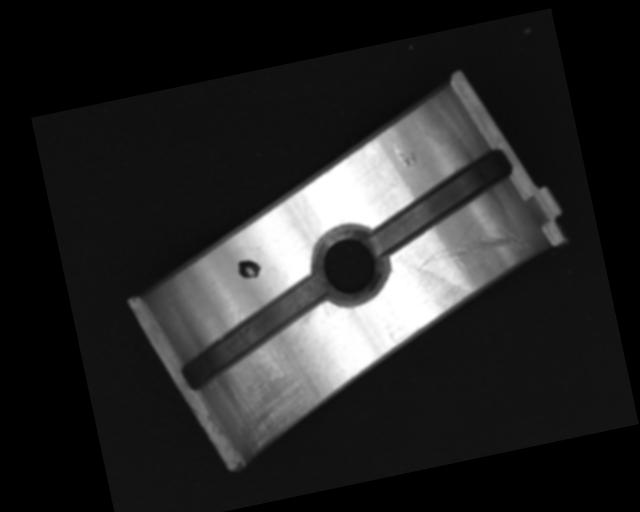blot: (235, 257, 264, 282)
bruise: (389, 136, 419, 170)
gap: (169, 272, 340, 393), (354, 147, 524, 257)
hole: (304, 217, 398, 315)
nick: (405, 207, 535, 276)
scratch: (216, 309, 342, 460)
